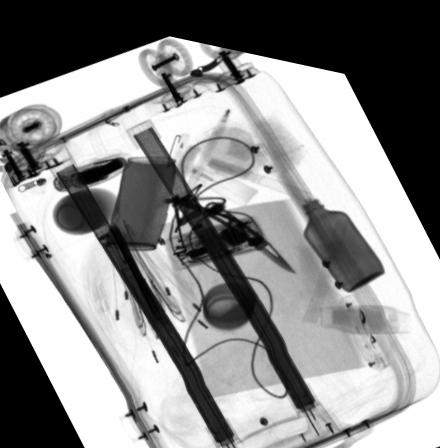Knife: (204, 191, 297, 260)
